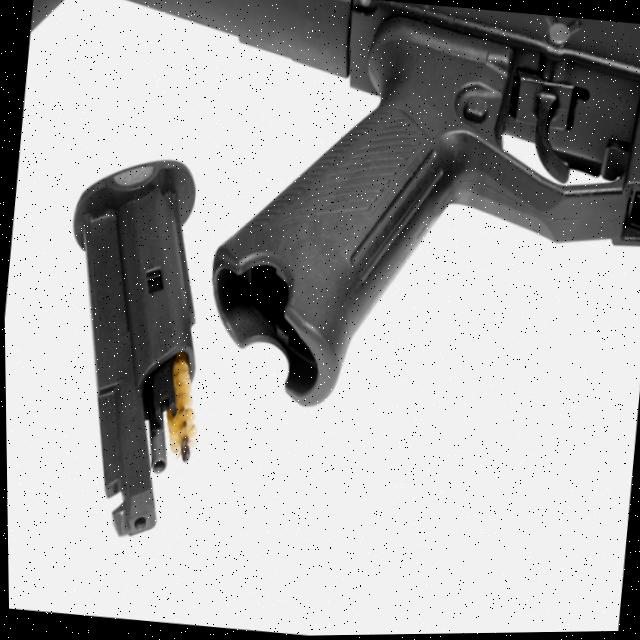firearm: (0, 0, 640, 445)
